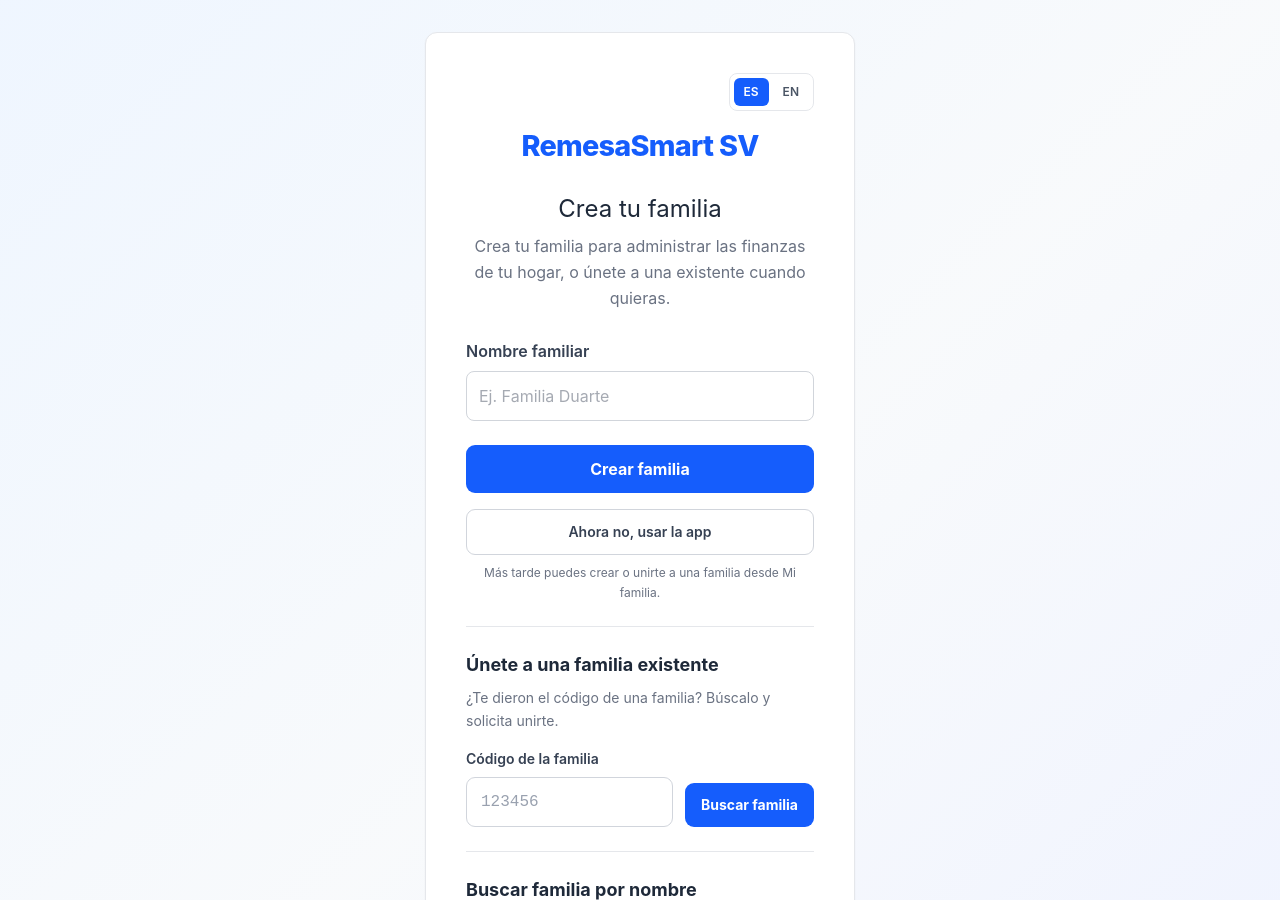
Test case: HogarPendiente › acepta el código de 6 dígitos del formato vigente y busca sin error de formato
Type "048293" into the field labelled "Código de la familia".
click(569, 802); type("048293")  # box [466,777,673,827]
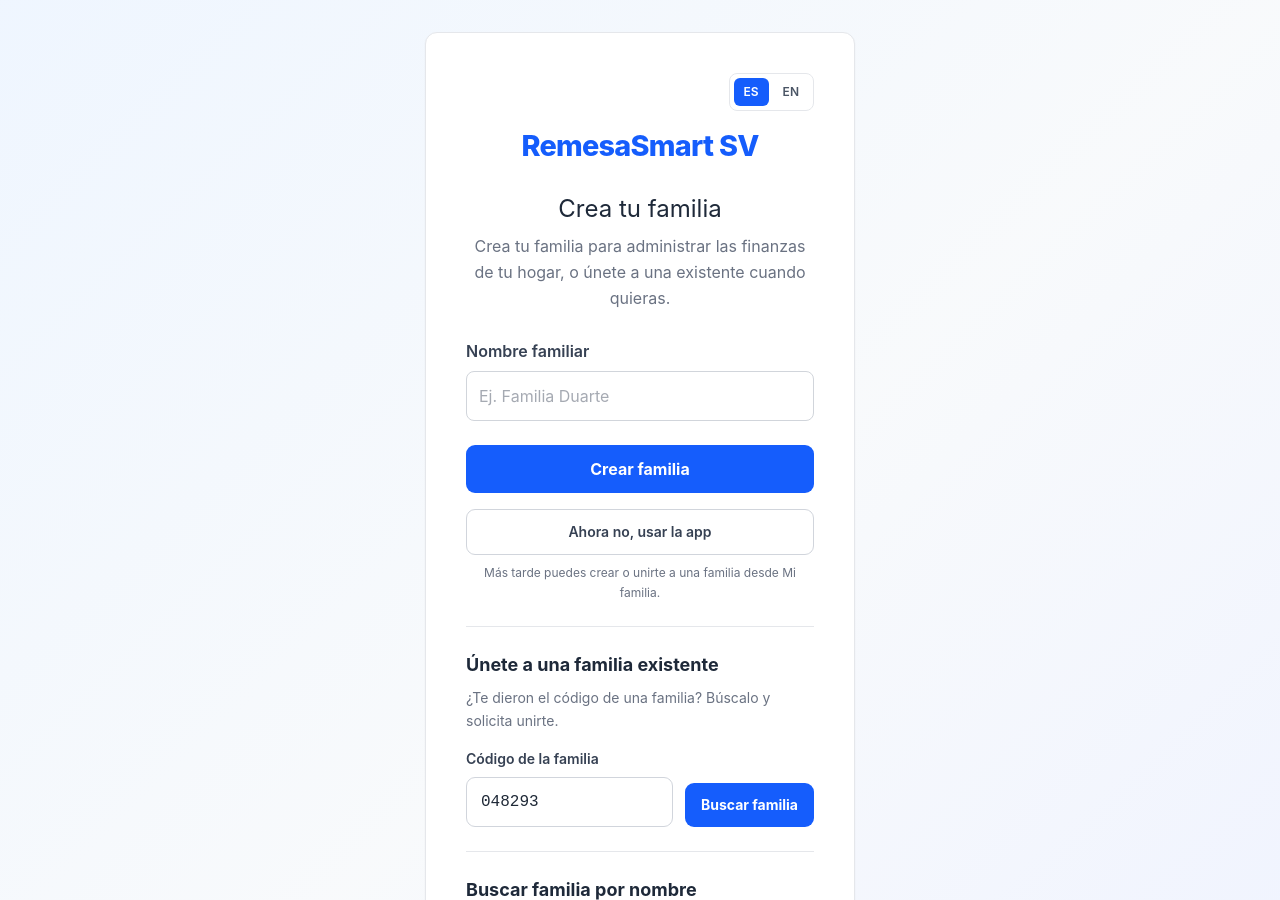
Click the button "Buscar familia".
click(749, 805)  # box [685,783,814,827]
(page scrolled)
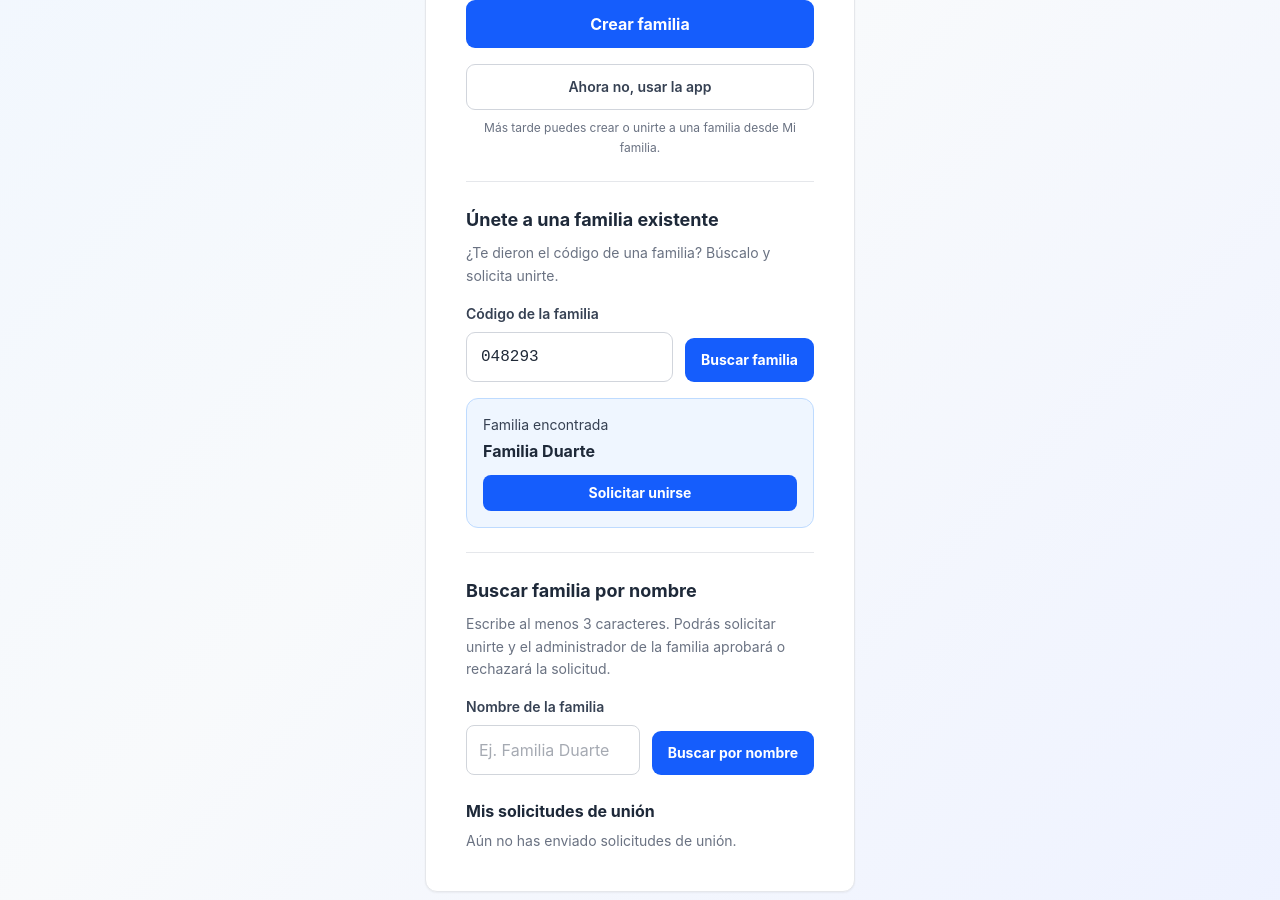
Result: the text "Familia Duarte" is shown at [483,441,595,461]
